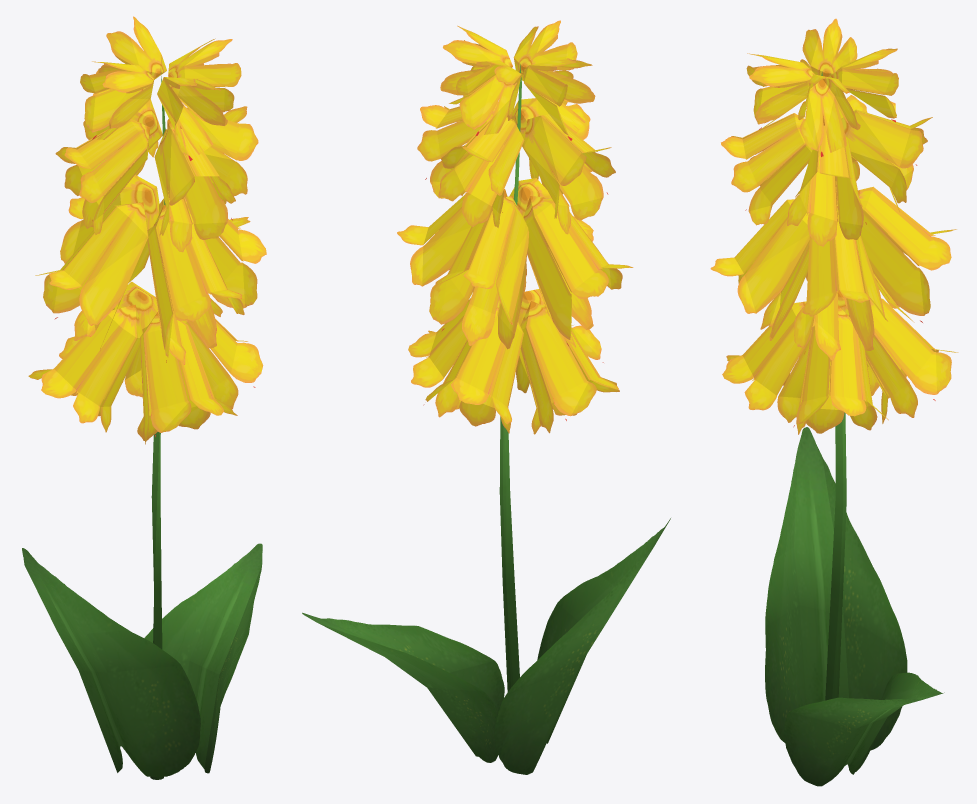
The model's file is Flower_4_Single.glb.
3 views of the same model, side by side, from view 1: azimuth 30°, elevation 25°; view 2: azimuth 150°, elevation 25°; view 3: azimuth 270°, elevation 25° (orthographic).
Bounding box in the file's own units: 1.07 × 2.42 × 0.7729.
Materials: 2 (2 with a texture image).
